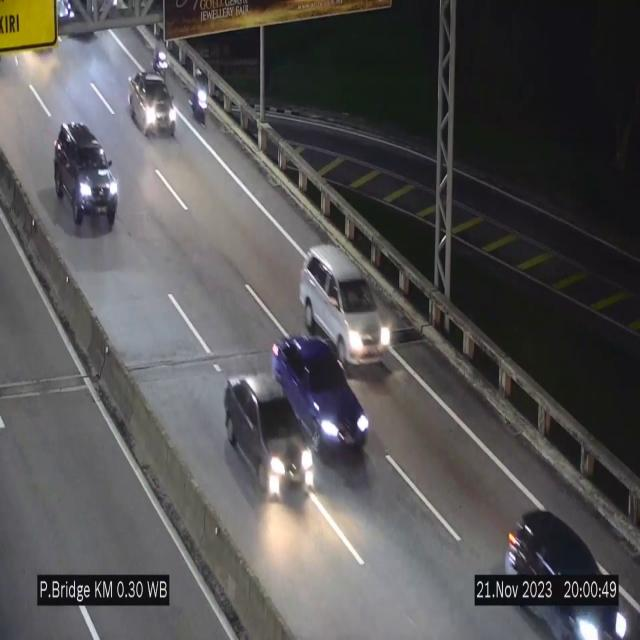Car: (501, 488, 629, 640), (220, 372, 318, 498), (269, 336, 371, 456), (299, 246, 388, 366), (55, 121, 118, 229), (130, 70, 177, 136)
Motorcycle: (189, 66, 207, 132), (150, 34, 171, 79)
